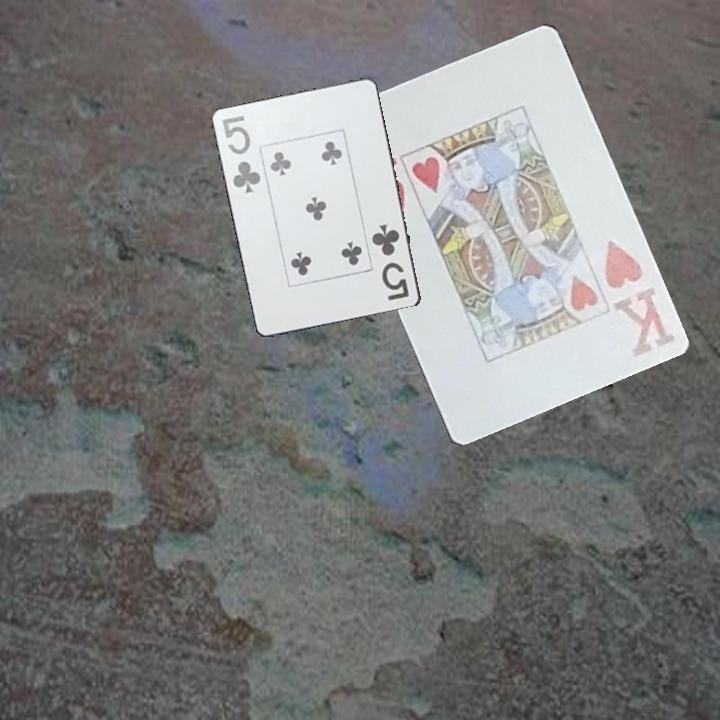5c: (219, 112, 264, 197), (368, 221, 413, 304)
Kh: (599, 236, 678, 360)
